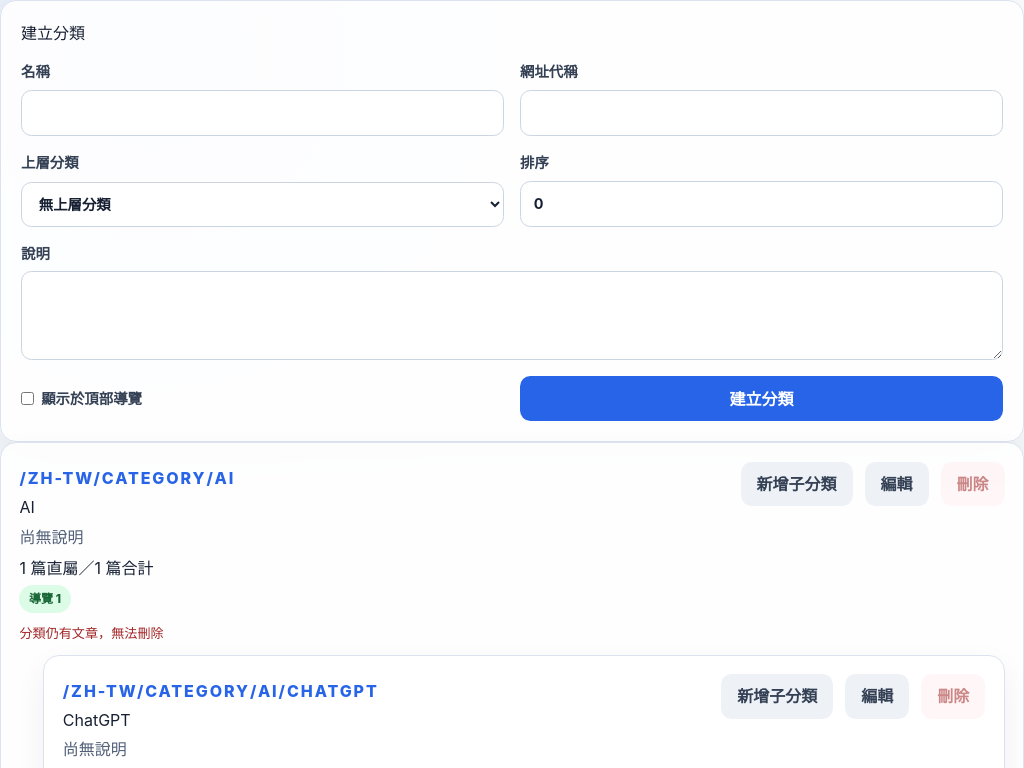
Test: CategoryManager › only shows navigation settings for root categories
Expected: the form "建立分類" is shown, [0,0,1023,442]
Expected: the checkbox labelled "顯示於頂部導覽" is shown, [21,392,34,405]
Select "— ChatGPT" in the dropdown labelled "上層分類" at (262, 204), box [21,182,504,226]
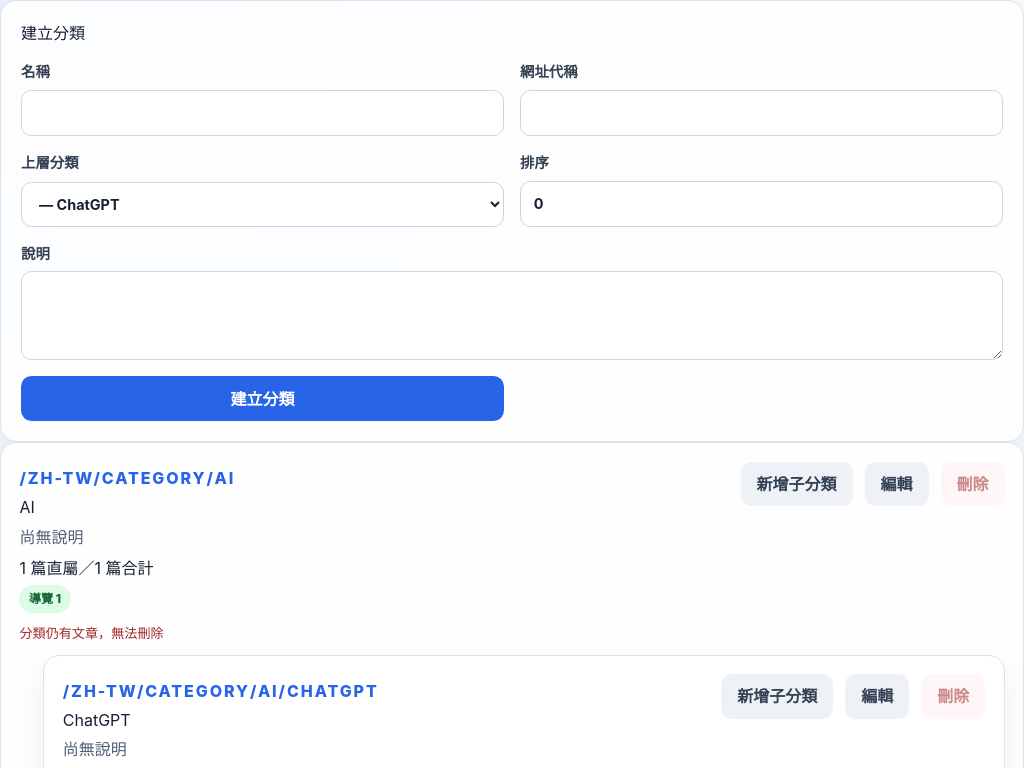
Expected: the label labelled "顯示於頂部導覽" is gone
